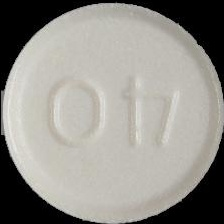0378-0216: (0, 0, 224, 224)
